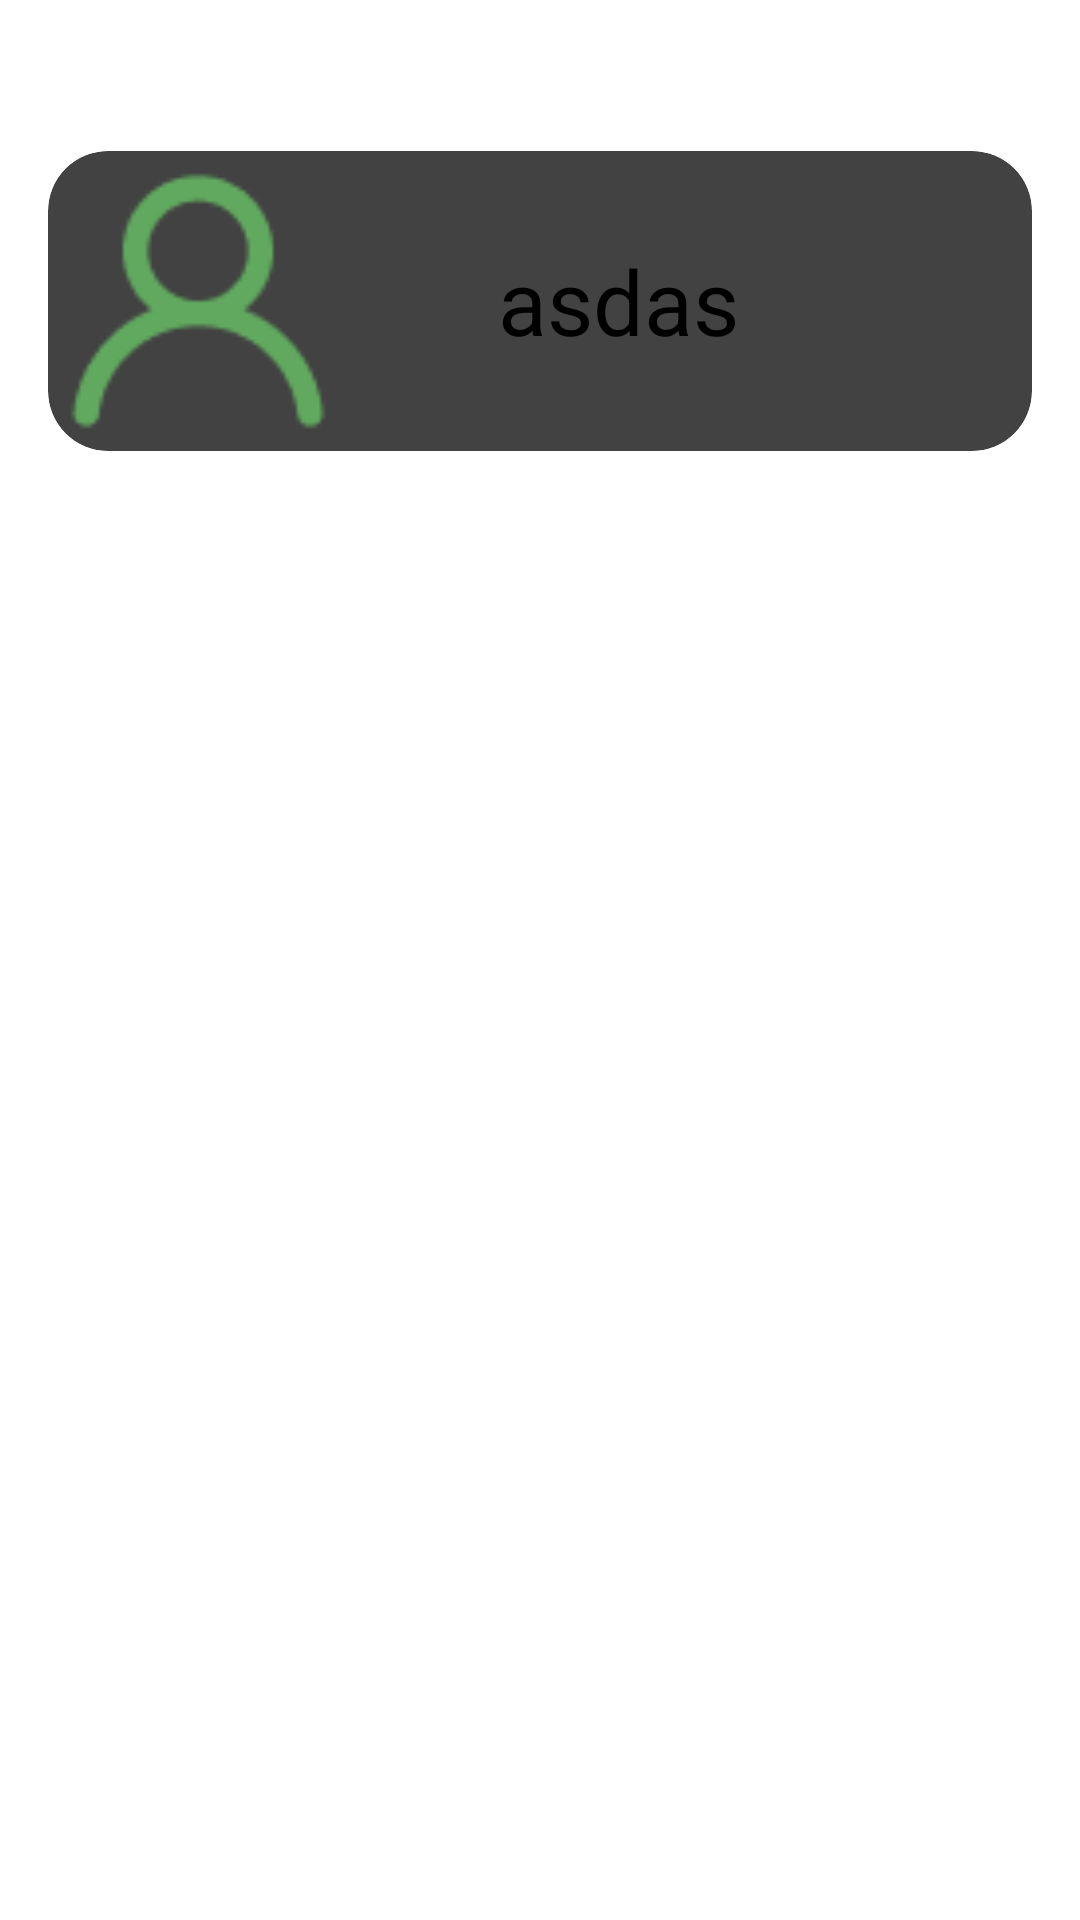

Locate icon controls on the screen. Image size 1080*1920, boxes as region(x1, y1, x2, y2).
account: region(48, 151, 348, 451)
